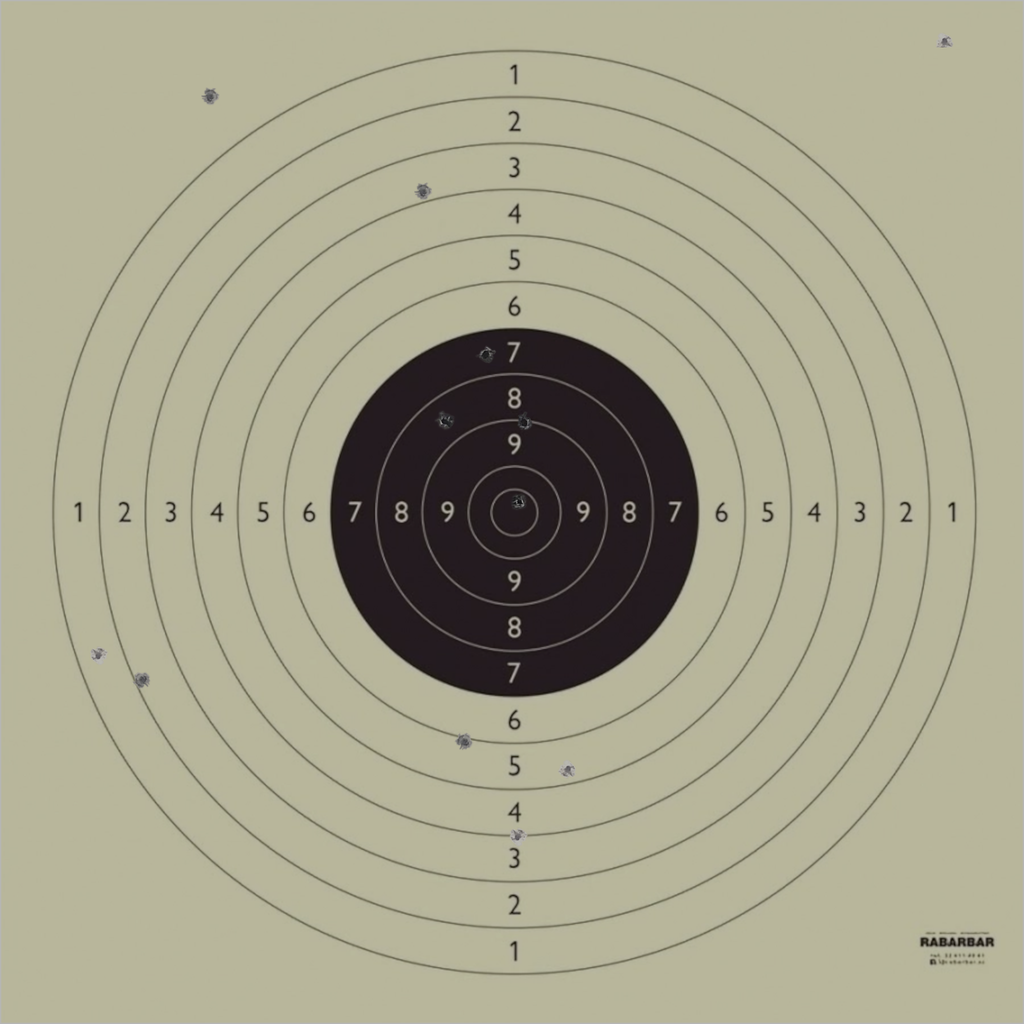0 punktow: (201, 88, 219, 106)
1 punkt: (89, 646, 108, 665)
10 punktow: (511, 493, 529, 512)
2 punkty: (133, 671, 152, 689)
3 punkty: (414, 183, 432, 201)
4 punkty: (508, 827, 527, 846)
5 punktow: (559, 760, 577, 779)
6 punktow: (455, 733, 474, 751)
7 punktow: (477, 345, 495, 364)
8 punktow: (435, 412, 454, 430)
9 punktow: (515, 413, 533, 432)
